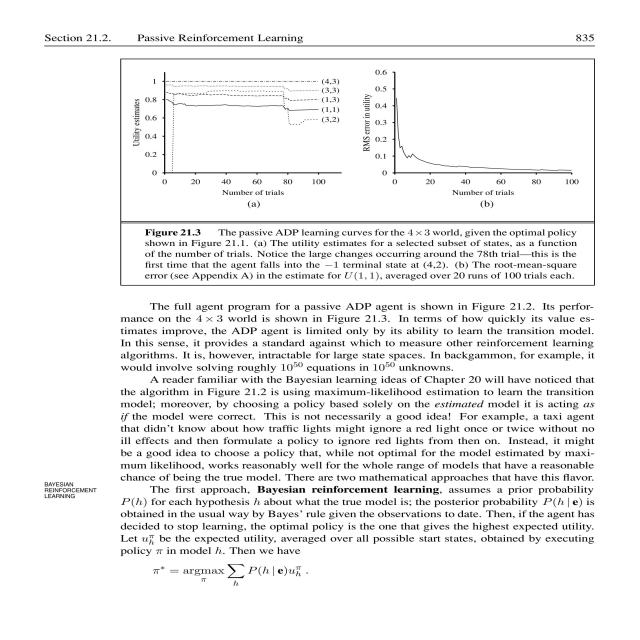diagram: (98, 54, 602, 288)
